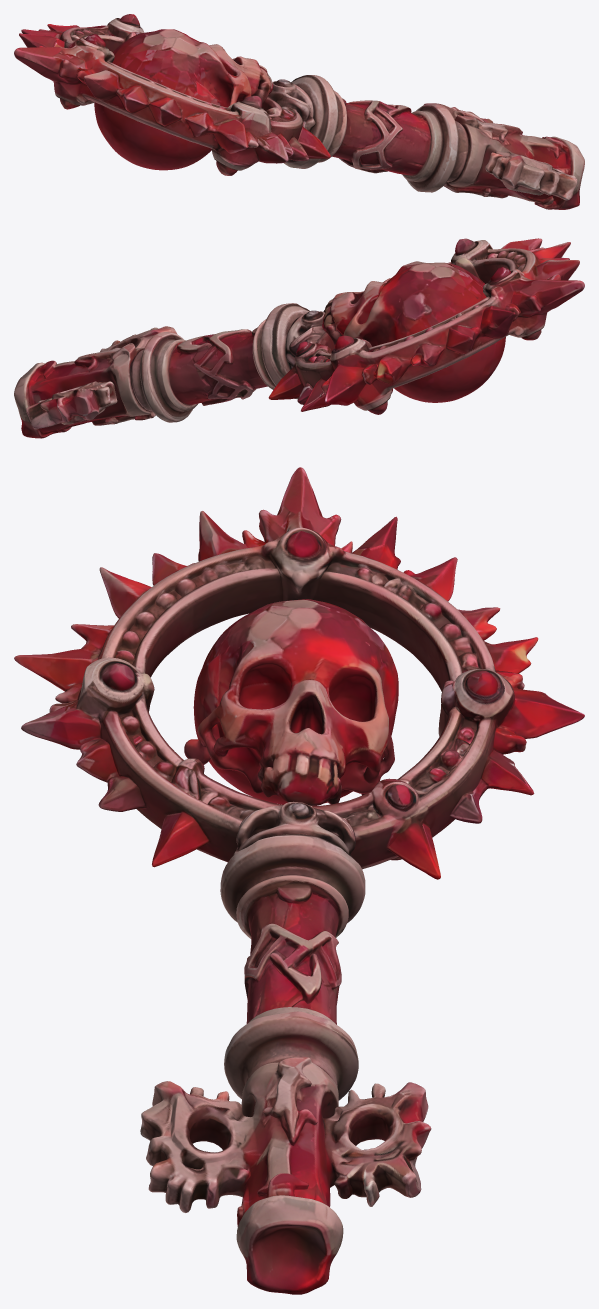
The model's file is tripo_pbr_model_872fe27b-ce59-4c77-8f83-6d8fbc26dae1.fbx.
The picture shows the model from 3 angles, top to bottom: view 1: azimuth 30°, elevation 25°; view 2: azimuth 150°, elevation 25°; view 3: azimuth 270°, elevation 25°; orthographic projection. The views are drawn at different scales.
Visible parts, largest first — view 1: Object_01; view 2: Object_01; view 3: Object_01.
Boxes of the visible parts, x1,y1,x2,y2 form: Object_01: (14,14,584,209); Object_01: (14,238,584,438); Object_01: (14,467,584,1294).
Size of the model in its own units: 30.81 by 15 by 18.16.
